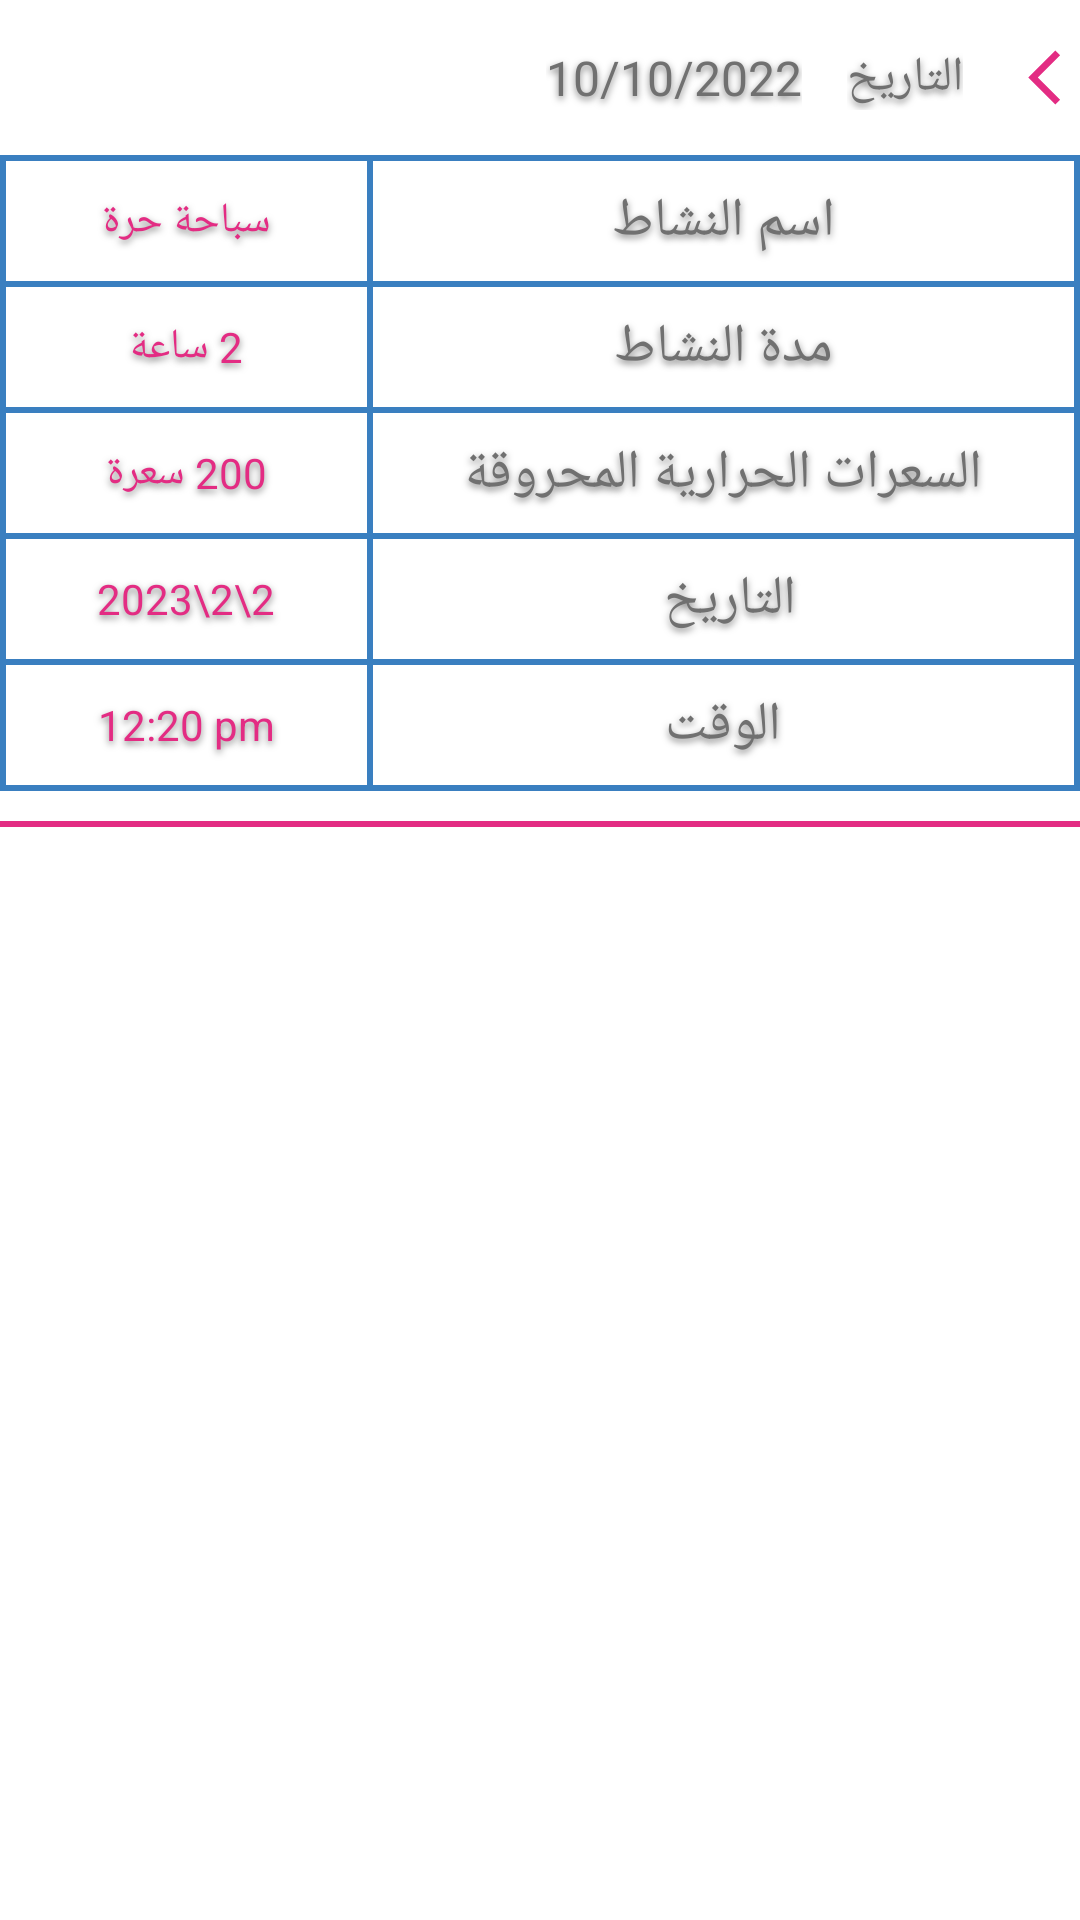

Icon bounding boxes for this 1080px×1920px phone screenshot, format (x1, y1, x2, y2):
back: (1028, 50, 1060, 105)
